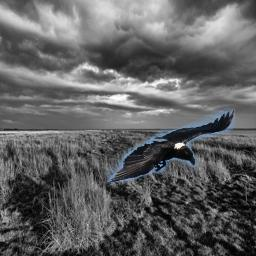Crow: (106, 108, 235, 183)
